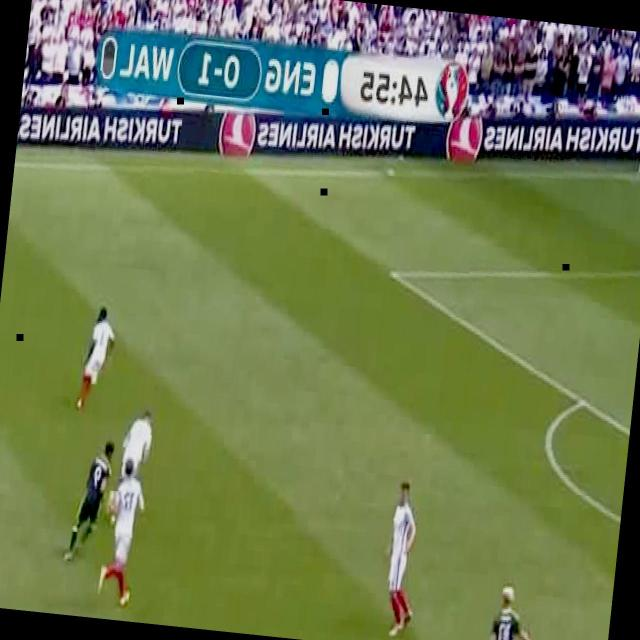player-white: (96, 458, 150, 606), (380, 482, 425, 640), (64, 436, 116, 568), (75, 304, 118, 415), (482, 582, 544, 640), (118, 408, 154, 489)
